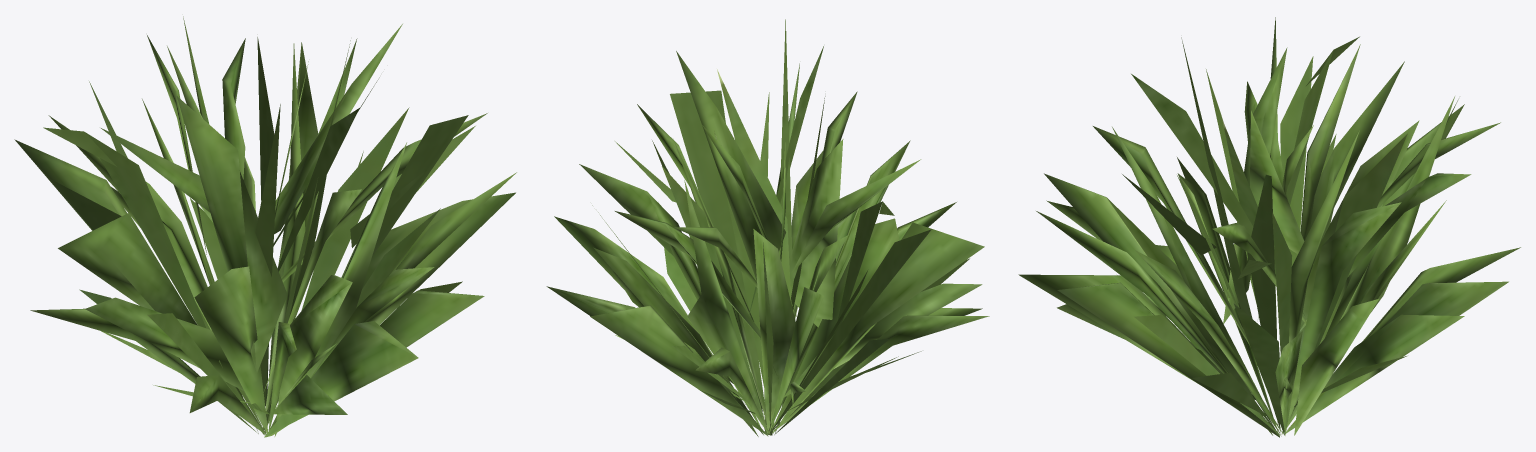
File: grass_clump.glb
3 views of the same model, side by side, from view 1: azimuth 30°, elevation 25°; view 2: azimuth 150°, elevation 25°; view 3: azimuth 270°, elevation 25° (orthographic). The views are drawn at different scales.
Size of the model in its own units: 0.9575 by 0.8047 by 0.8813.
Materials: 1 (1 with a texture image).
